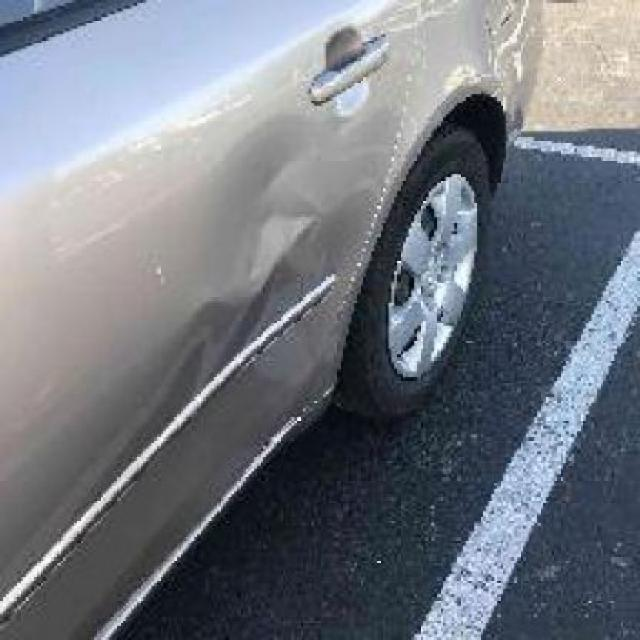dent-or-scratch: (209, 120, 334, 360)
